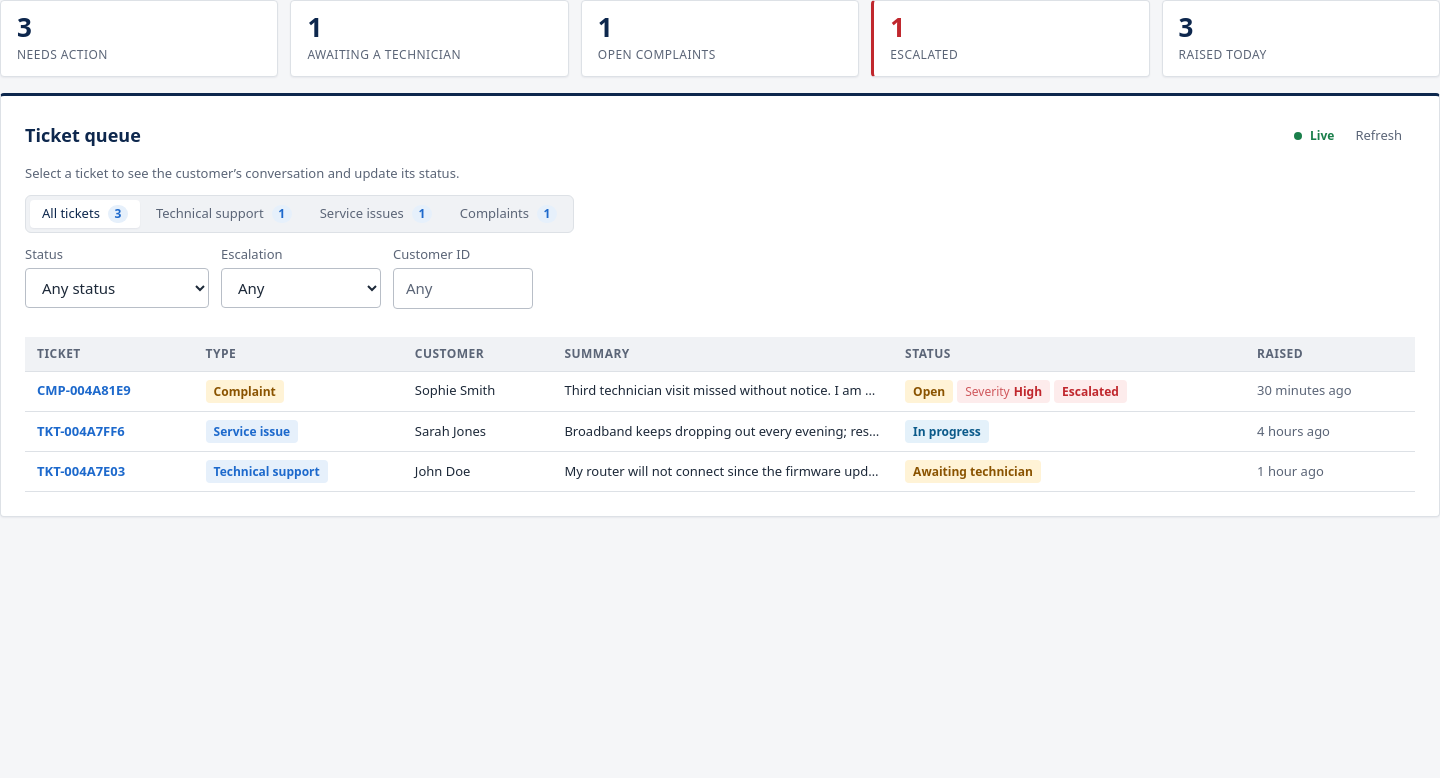
TicketsPanel › rolls the list back when the server refuses the status change
This screenshot has width=1440, height=778.
Expected: the row named "firmware update" is shown, left=25, top=452, right=1415, bottom=492
Click the button "TKT-004A7E03" at (81, 472), box left=37, top=462, right=125, bottom=481
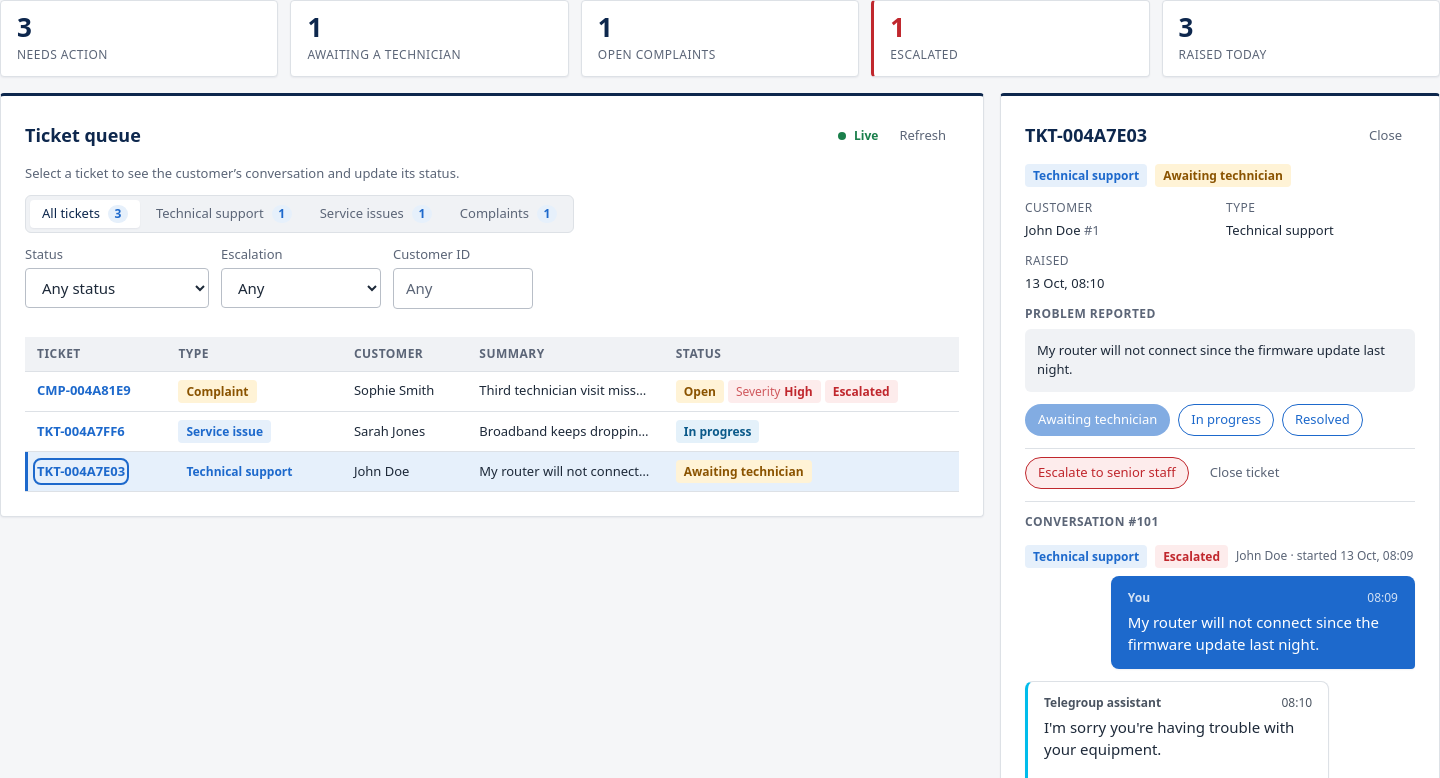
Expected: the text "Awaiting technician" below "Sarah Jones" is shown, left=684, top=463, right=804, bottom=480
Click the button "Resolved" at (1322, 420), box left=1282, top=404, right=1363, bottom=436
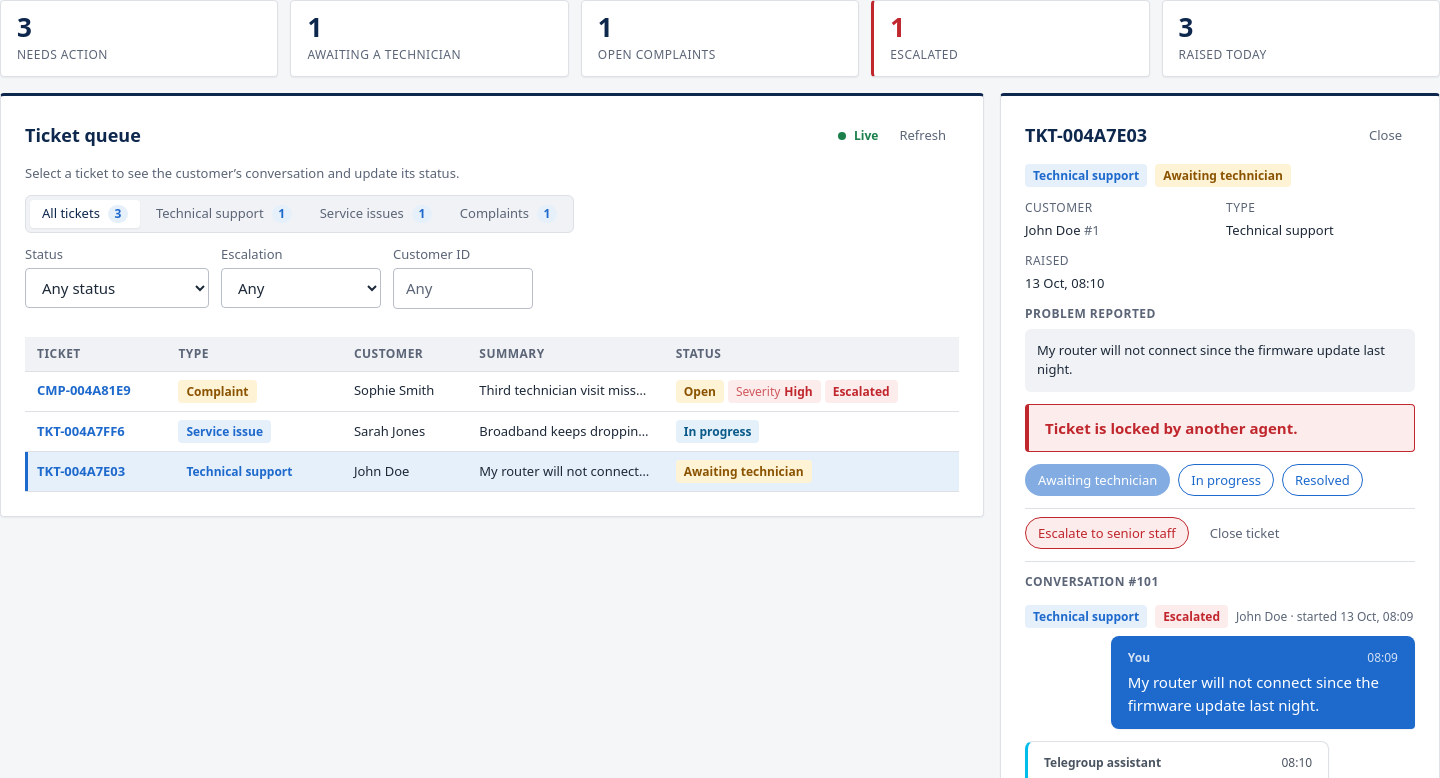
Expected: the text "Awaiting technician" below "Sarah Jones" is shown, left=684, top=463, right=804, bottom=480
Now the message reads "Ticket is locked by another agent.", box left=1045, top=418, right=1297, bottom=438
